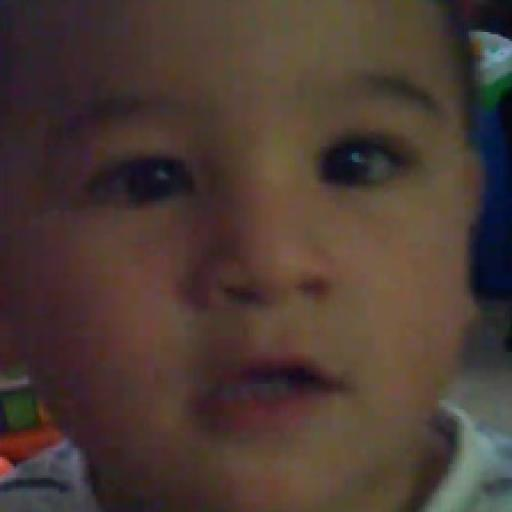Autism: (0, 16, 484, 468)
